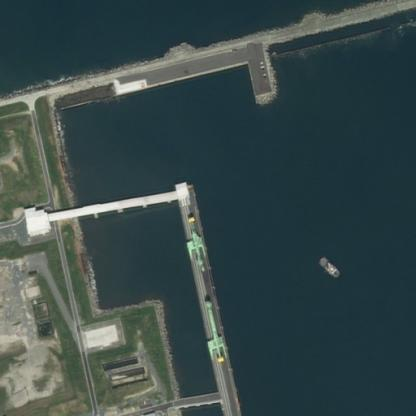ship: (314, 251, 343, 282)
